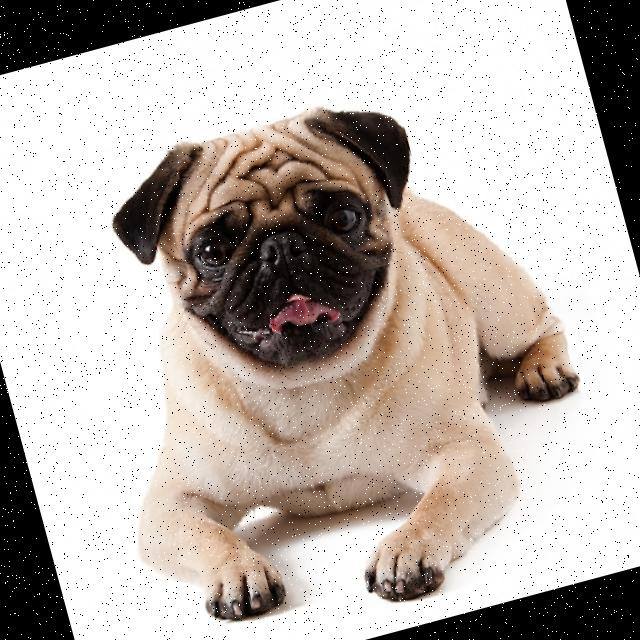Dog: (40, 60, 622, 640)
